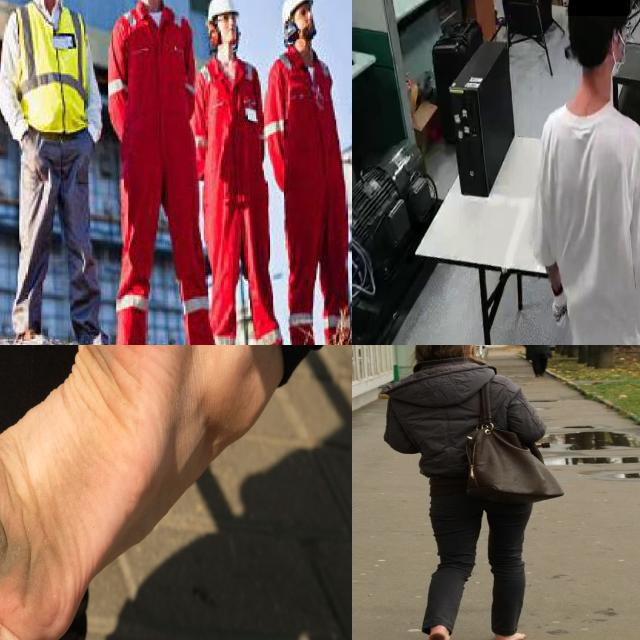Barefoots: (0, 345, 217, 640), (422, 628, 452, 640), (494, 632, 526, 640)
Ear-protection: (202, 13, 247, 52), (284, 10, 314, 50)
head_helmet: (202, 0, 244, 24), (279, 0, 318, 25)
head_nohelmet: (565, 0, 630, 17)
person: (97, 0, 217, 345), (0, 0, 119, 345), (532, 0, 640, 345), (263, 0, 352, 345), (194, 0, 274, 345)
vest: (10, 1, 94, 142)
